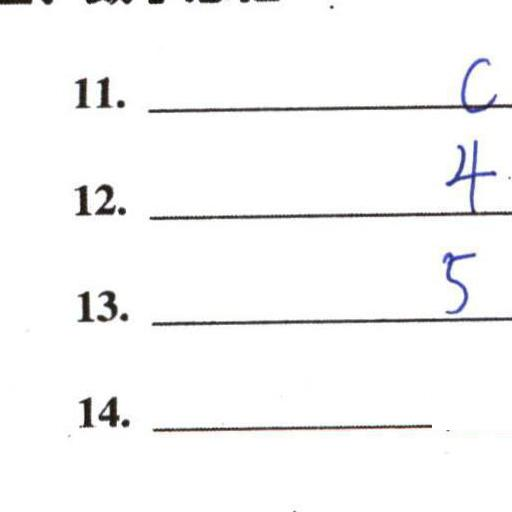ans: (439, 132, 496, 212), (432, 240, 476, 315), (452, 50, 500, 115)
